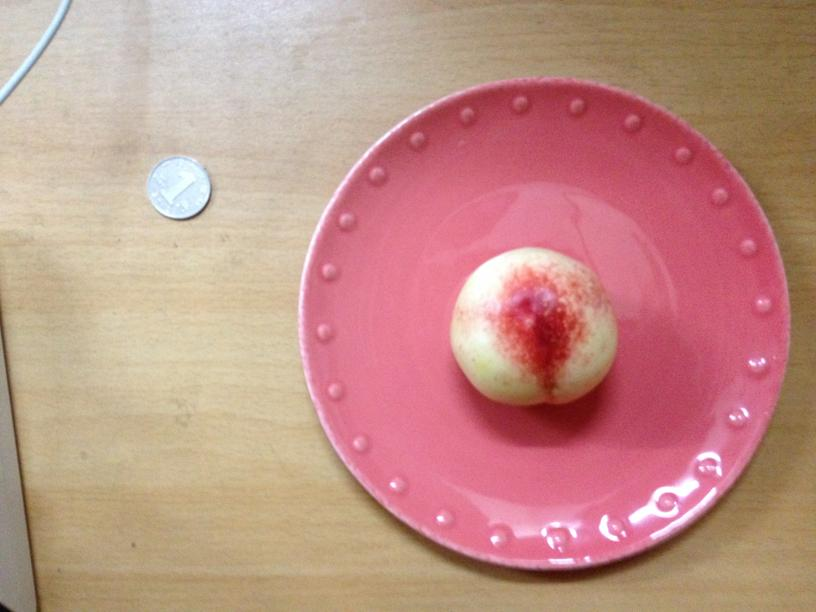coin: (145, 156, 211, 219)
peach: (445, 246, 618, 408)
